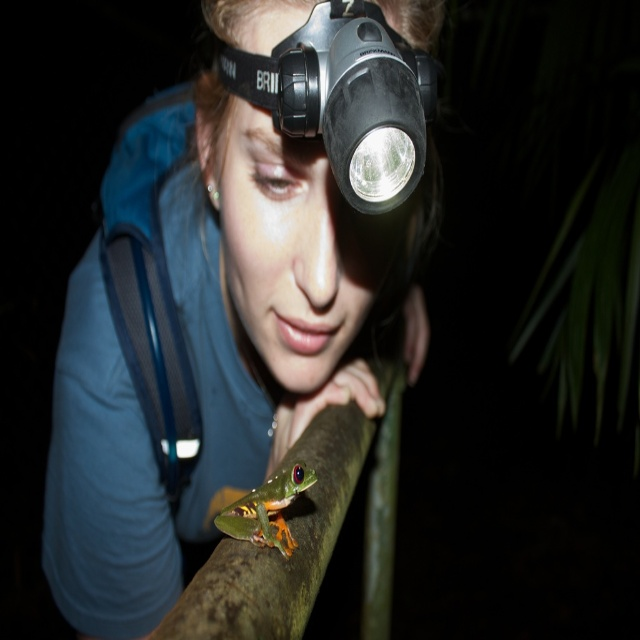Frog: (211, 457, 320, 563)
